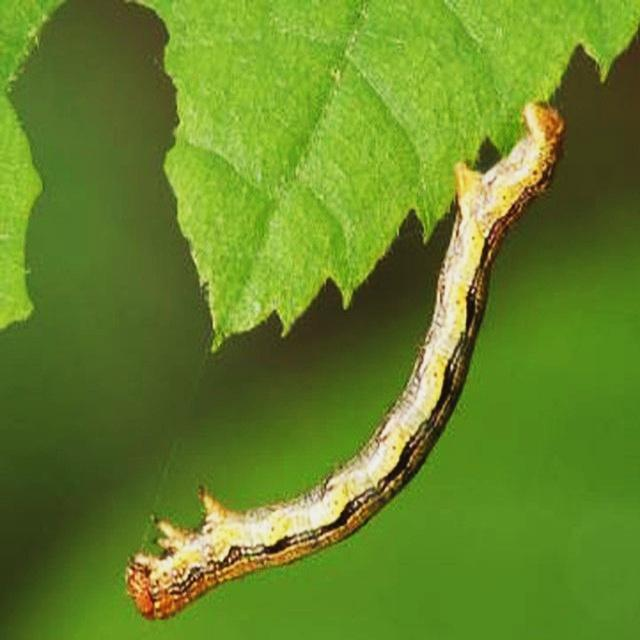worm: (124, 99, 567, 622)
